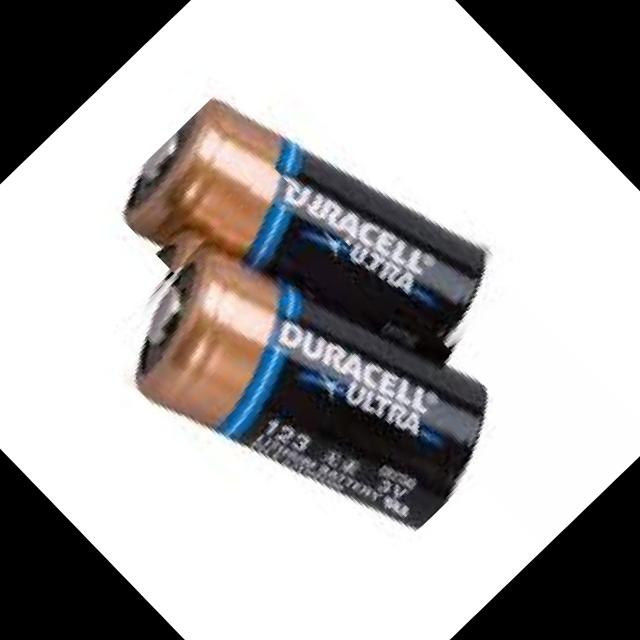Hazard: (89, 166, 524, 604), (105, 31, 526, 455)
